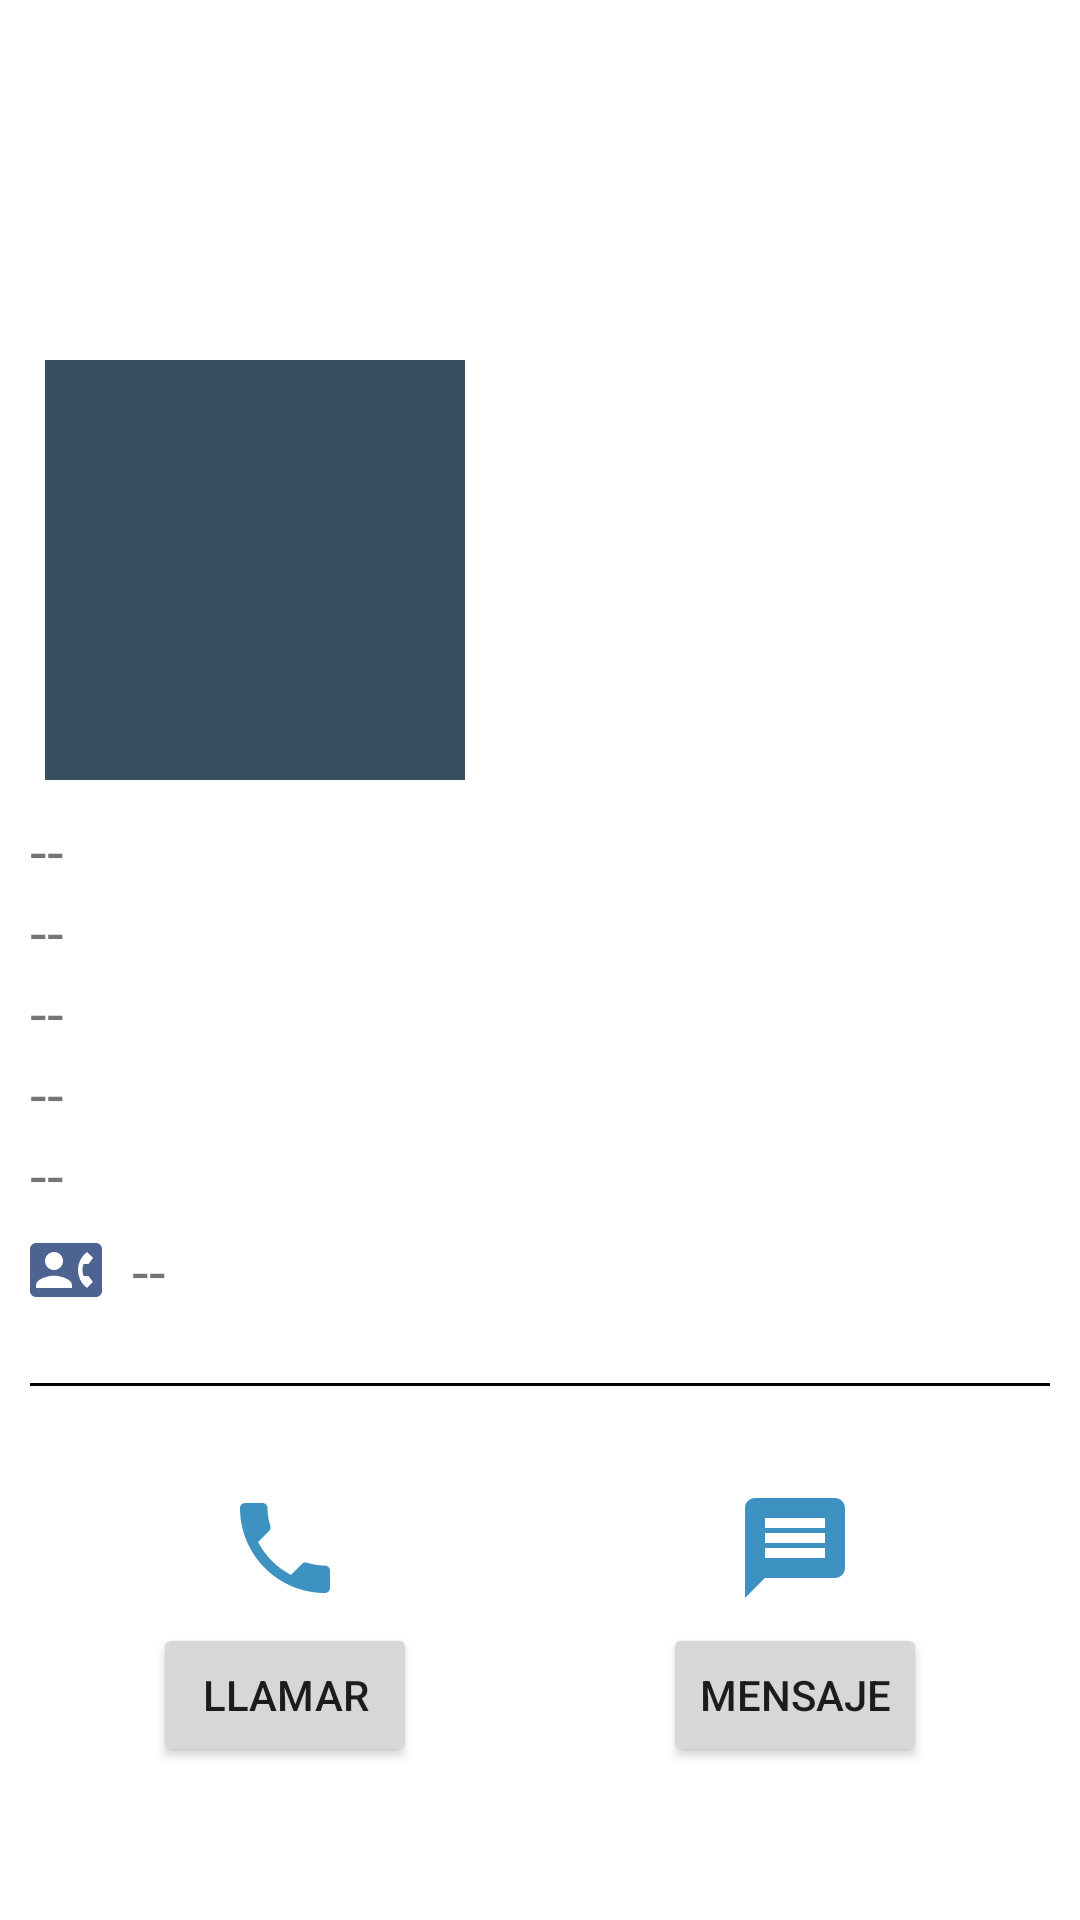

Icon bounding boxes for this 1080 x 1920 phone screenshot, format {"x1": x1, "y1": y1, "x2": x2, "y2": y2}:
message: {"x1": 745, "y1": 1498, "x2": 845, "y2": 1598}
telefono: {"x1": 240, "y1": 1503, "x2": 330, "y2": 1593}
